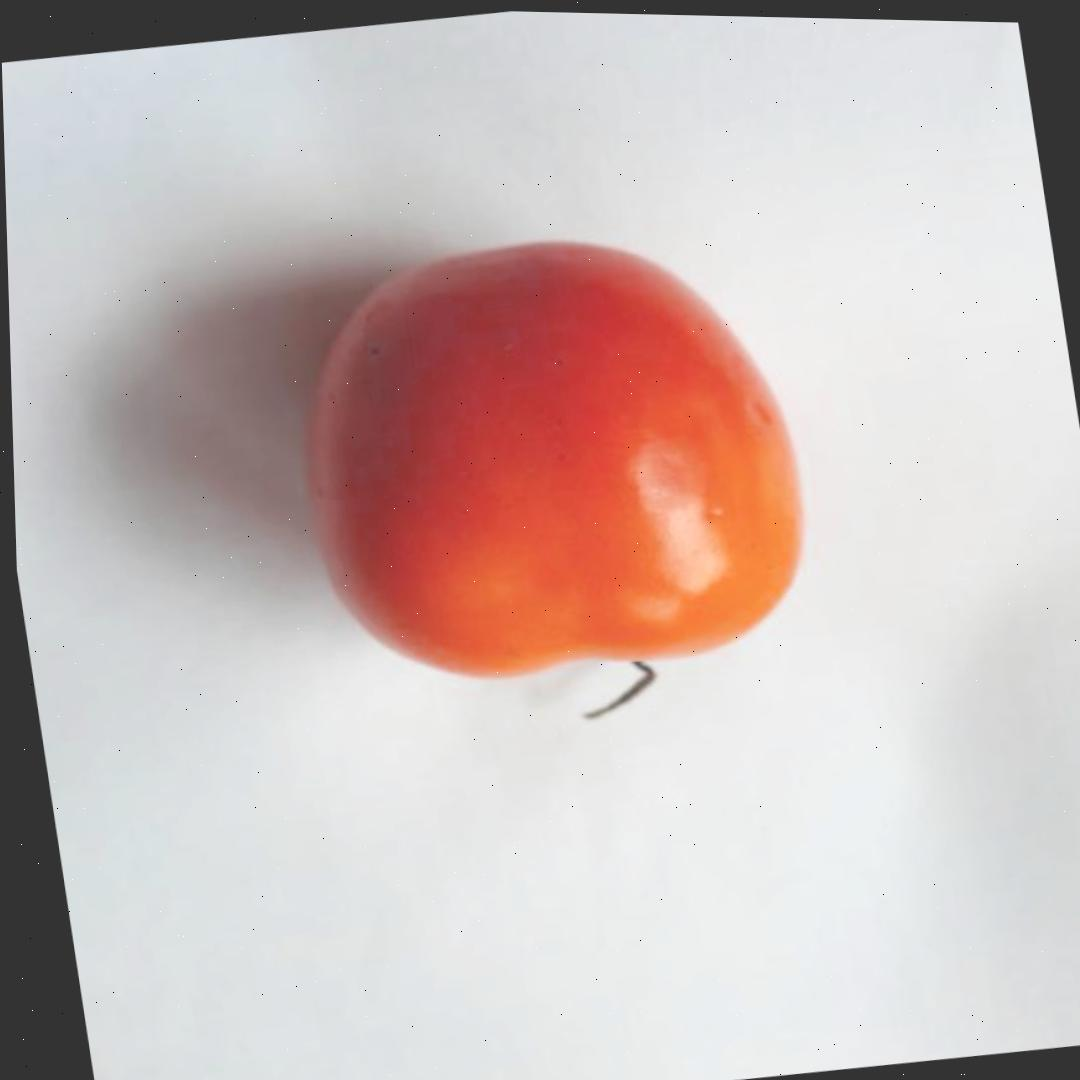setengah_matang: (266, 203, 831, 709)
